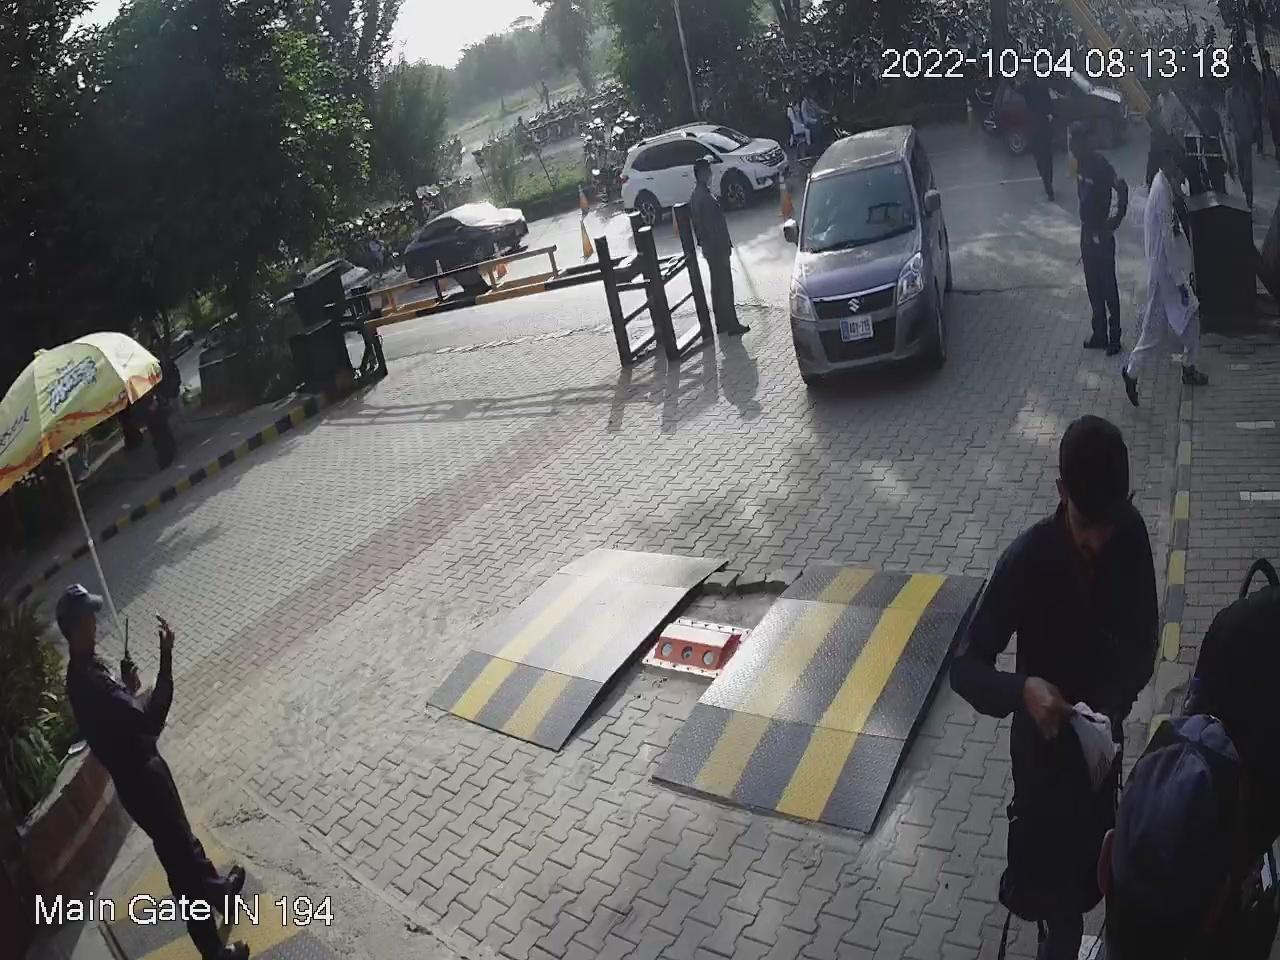windshield: (803, 157, 920, 260)
